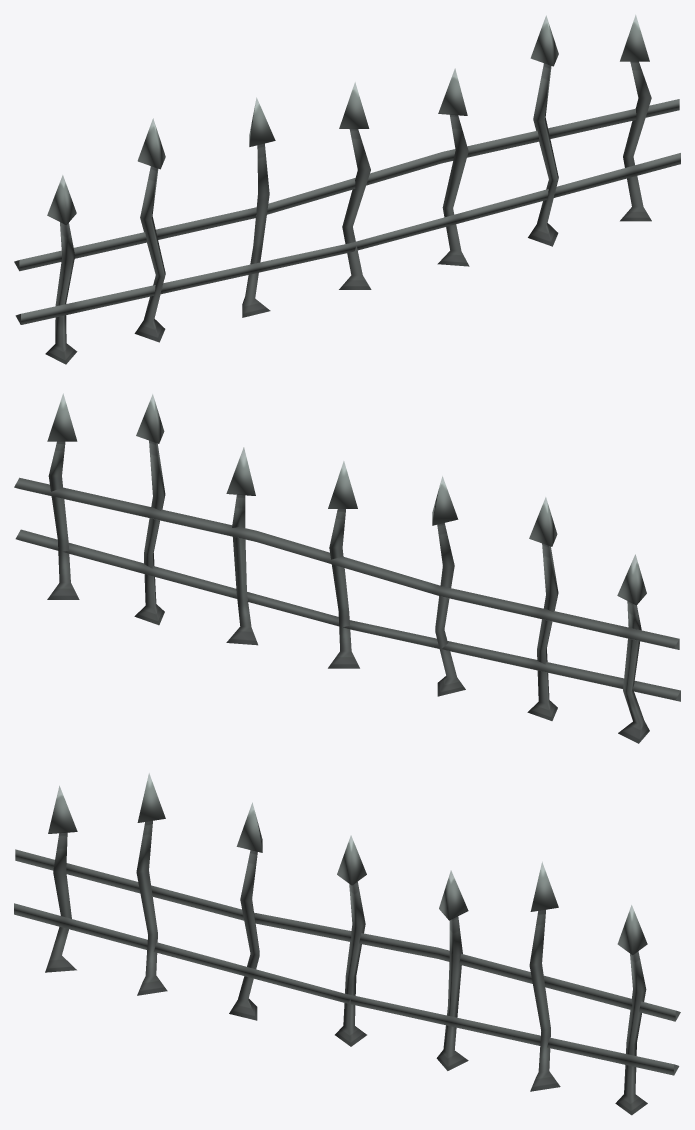
File: Dg_01_bars_002.FBX
3 renders of one model, top to bottom at view 1: azimuth 30°, elevation 25°; view 2: azimuth 150°, elevation 25°; view 3: azimuth 330°, elevation 25°, orthographic.
Visible parts, largest first — view 1: Dg_01_bars_002; view 2: Dg_01_bars_002; view 3: Dg_01_bars_002.
Boxes of the visible parts, x1,y1,x2,y2 form: Dg_01_bars_002: (14,14,680,364); Dg_01_bars_002: (14,393,680,743); Dg_01_bars_002: (14,773,680,1115).
Bounding box in the file's own units: 5 × 1.62 × 0.2486.
